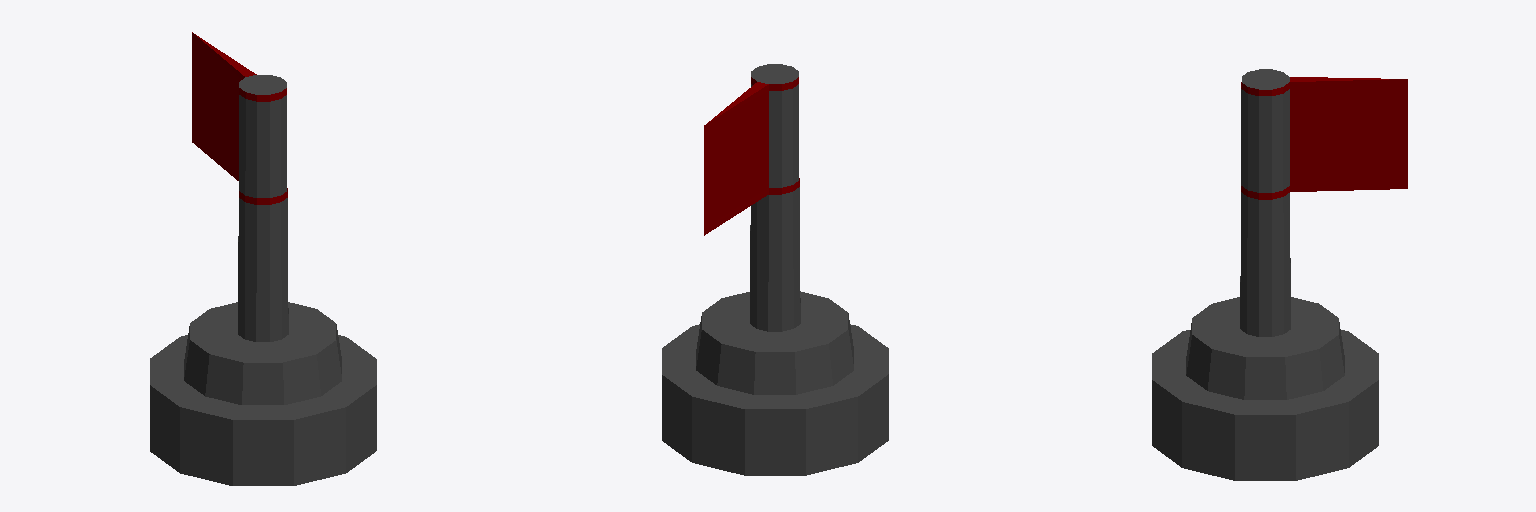
File: flag_pole.obj
3 views of the same model, side by side, from view 1: azimuth 30°, elevation 25°; view 2: azimuth 150°, elevation 25°; view 3: azimuth 270°, elevation 25° (orthographic).
Parts seen in each view (by area): view 1: Cylinder; view 2: Cylinder; view 3: Cylinder.
Boxes of the visible parts, x1=… form: Cylinder: x1=150, y1=32, x2=376, y2=485; Cylinder: x1=662, y1=64, x2=888, y2=475; Cylinder: x1=1152, y1=69, x2=1407, y2=480.
Bounding box in the file's own units: 0.4749 × 0.816 × 0.5351.